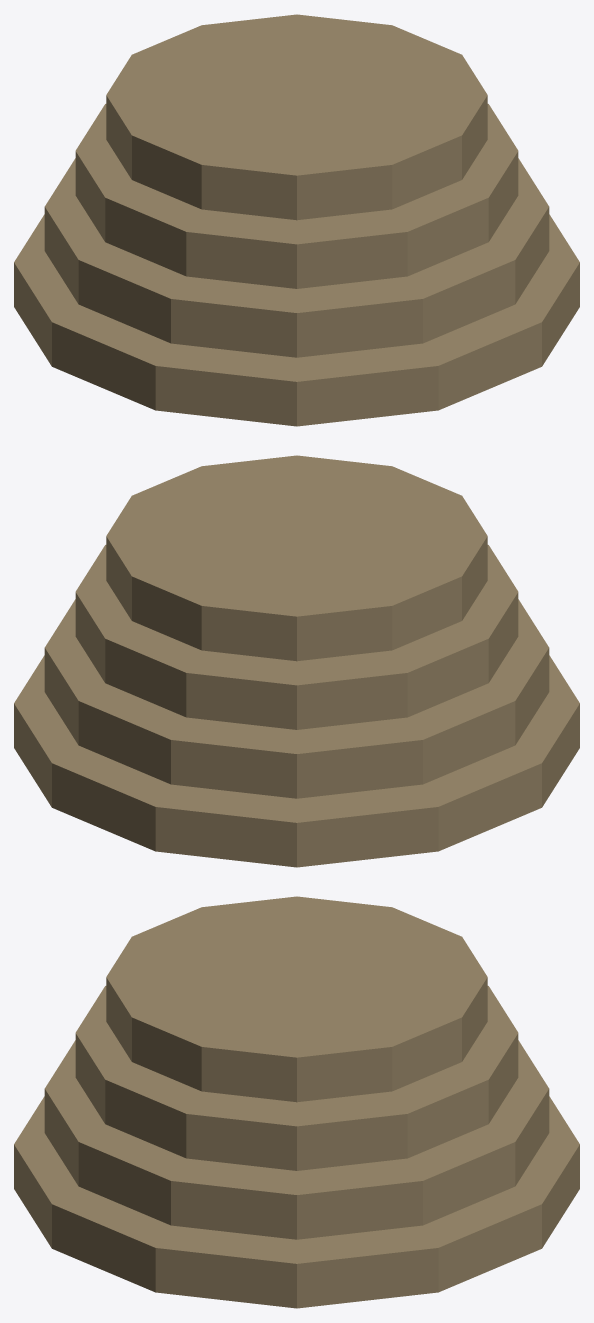
File: P_RopeCoil.glb
The picture shows the model from 3 angles, top to bottom: view 1: azimuth 30°, elevation 25°; view 2: azimuth 150°, elevation 25°; view 3: azimuth 270°, elevation 25°; orthographic projection.
Visible parts, largest first — view 1: P_RopeCoil; view 2: P_RopeCoil; view 3: P_RopeCoil.
Boxes of the visible parts, x1,y1,x2,y2 form: P_RopeCoil: [14, 14, 579, 426]; P_RopeCoil: [14, 455, 579, 867]; P_RopeCoil: [14, 896, 579, 1308].
Bounding box in the file's own units: 0.92 × 0.38 × 0.92.
